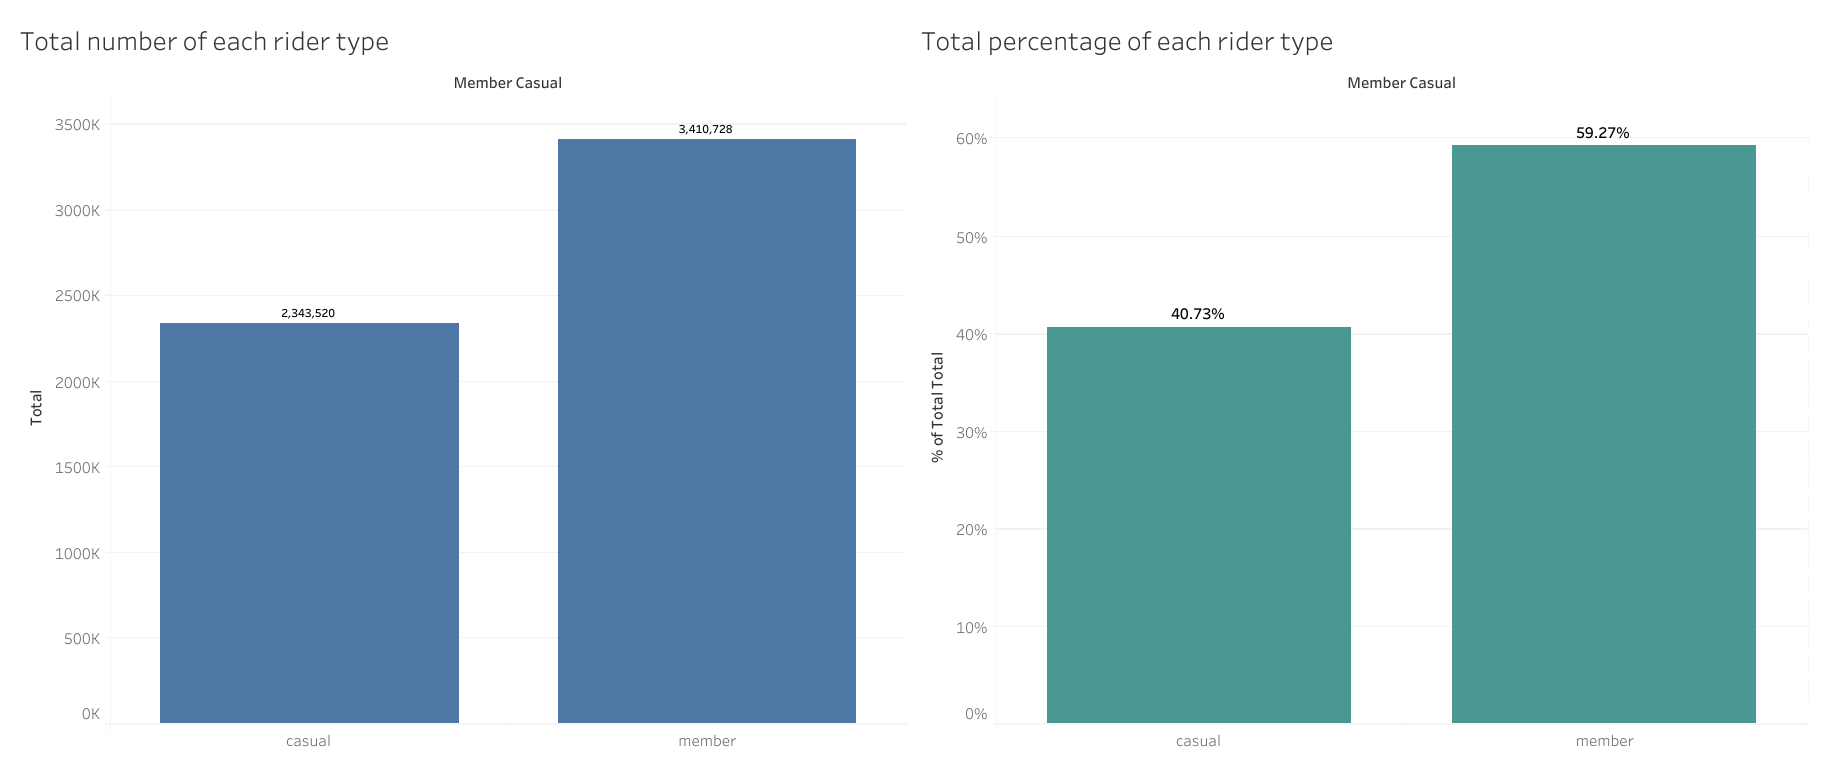

The dashboard page shown, as its layout file describes it:
{"tool":"tableau","page":{"name":"Dashboard 1","canvas":[1000,1000],"units":"permille","ordinal":0},"visuals":[{"type":"worksheet","title":"Sheet 1","mark":"Automatic","rows":["total"],"cols":["member_casual"],"box":[4.8,9.3,495.2,981.4]},{"type":"worksheet","title":"Sheet 2","mark":"Automatic","rows":["total"],"cols":["member_casual"],"box":[500,9.3,495.2,981.4]}]}

Visuals, with their boxes on the dashboard's canvas, which has no fixed pixel size, in thousandths of its width and height (x1, y1, x2, y2). These are canvas units, not pixel positions in the 1821x765 screenshot, which may show the page scaled, cropped or inside an application window:
"Sheet 1" worksheet: 5:9:500:991
"Sheet 2" worksheet: 500:9:995:991
